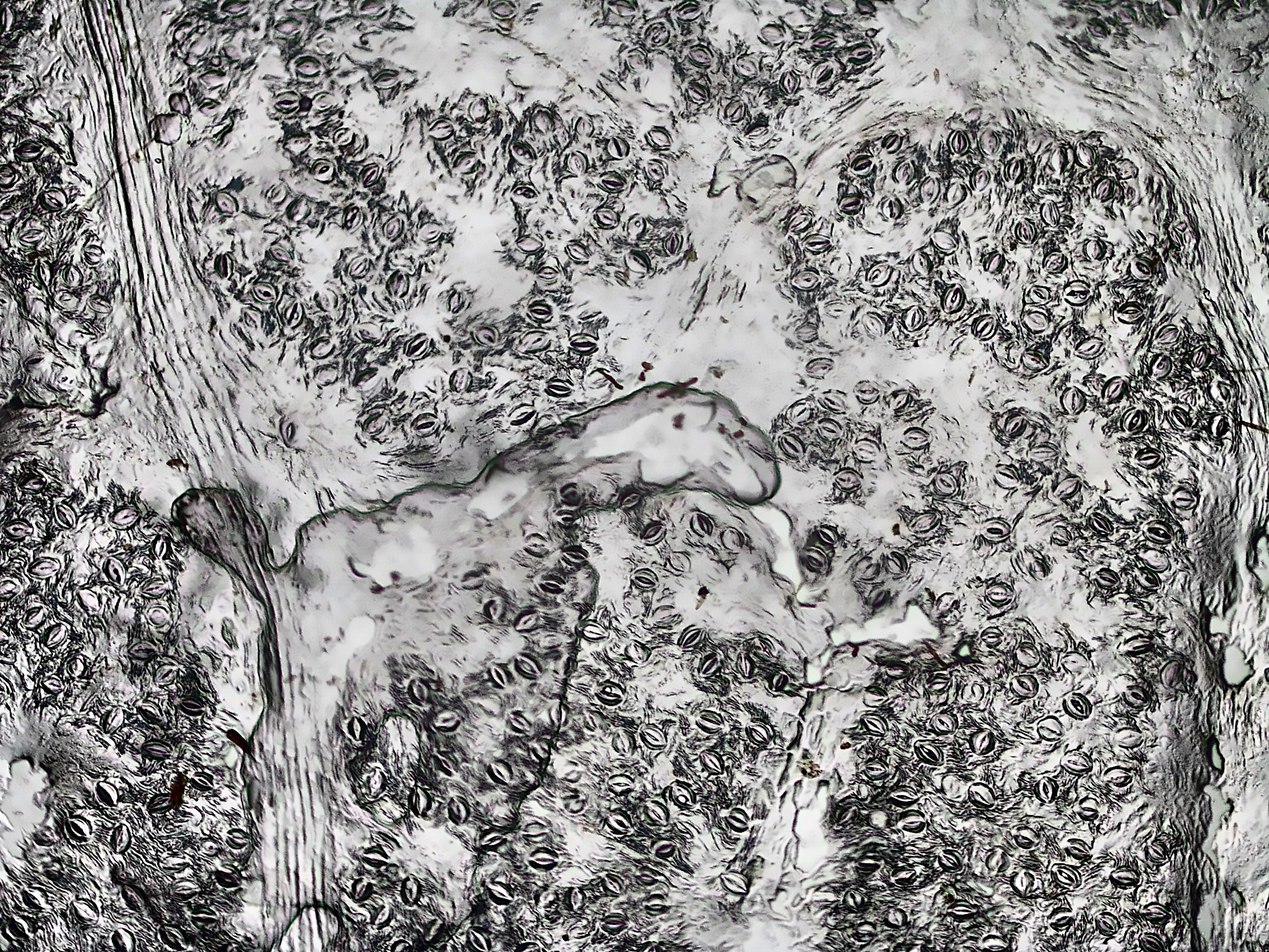stomata: (62, 812, 90, 842), (1101, 767, 1131, 795), (279, 414, 302, 450), (1061, 691, 1090, 719), (517, 331, 552, 354), (71, 897, 100, 924), (159, 922, 189, 948), (647, 124, 673, 153), (967, 782, 994, 809), (1052, 862, 1080, 888), (1135, 563, 1160, 592), (1062, 280, 1092, 304), (409, 785, 432, 816), (980, 519, 1011, 542), (834, 469, 865, 492), (1074, 334, 1106, 356), (1001, 408, 1027, 435), (109, 506, 144, 526), (1101, 375, 1126, 403), (1142, 521, 1175, 542), (525, 301, 555, 324), (1019, 308, 1049, 331), (26, 556, 57, 578), (915, 738, 941, 764), (42, 187, 67, 214), (75, 588, 102, 613), (670, 781, 695, 808), (136, 700, 164, 724), (811, 61, 835, 89), (940, 285, 964, 313), (1135, 446, 1164, 469), (1012, 867, 1035, 896), (758, 23, 788, 45), (1211, 377, 1233, 407), (564, 239, 590, 264), (510, 407, 536, 432), (605, 134, 630, 160), (1090, 176, 1115, 202), (853, 555, 879, 580), (678, 625, 705, 649), (862, 310, 886, 337), (595, 681, 622, 705), (532, 106, 555, 134), (1072, 143, 1100, 166), (363, 769, 386, 797), (1010, 674, 1038, 697), (1114, 727, 1142, 750), (946, 179, 968, 208), (1014, 642, 1039, 667), (453, 150, 479, 174), (780, 432, 804, 458), (1003, 156, 1027, 182), (1167, 407, 1191, 433), (405, 333, 432, 356), (929, 229, 956, 252), (94, 781, 117, 808), (410, 412, 441, 432), (140, 739, 171, 759), (388, 270, 410, 298), (792, 269, 820, 291), (719, 870, 747, 892), (972, 726, 994, 754), (13, 135, 42, 156), (150, 531, 171, 560), (158, 851, 188, 871), (606, 810, 631, 834), (804, 549, 829, 573), (910, 512, 940, 532), (1037, 716, 1062, 740), (898, 426, 928, 446), (994, 463, 1019, 487), (273, 90, 299, 113), (215, 192, 241, 215), (973, 313, 996, 339), (696, 709, 722, 732), (644, 800, 670, 823), (787, 402, 814, 424), (978, 127, 1000, 154), (448, 797, 470, 824), (486, 880, 513, 902), (370, 71, 401, 90), (1109, 867, 1140, 886), (293, 56, 321, 77), (651, 605, 679, 626), (1012, 826, 1040, 847), (806, 357, 835, 377), (1141, 903, 1170, 923), (105, 560, 129, 584), (626, 249, 650, 273), (645, 23, 669, 47), (642, 725, 666, 749), (700, 749, 724, 773), (1143, 839, 1167, 863), (818, 418, 841, 443), (867, 260, 892, 283), (515, 656, 540, 679), (746, 721, 771, 744), (883, 550, 906, 575), (1061, 387, 1086, 410), (1121, 410, 1146, 433), (1053, 474, 1076, 499), (241, 305, 263, 331), (473, 326, 499, 348), (720, 528, 746, 550), (734, 57, 760, 79), (855, 381, 881, 403), (1060, 750, 1090, 769), (514, 234, 541, 255), (639, 523, 666, 544), (624, 640, 651, 661), (1162, 661, 1183, 688), (509, 183, 537, 203), (1028, 442, 1056, 462), (1043, 249, 1067, 272), (912, 248, 931, 277), (1123, 636, 1152, 655), (565, 150, 587, 175), (595, 206, 620, 228), (632, 568, 657, 590), (489, 758, 511, 783), (862, 713, 887, 735), (1035, 779, 1057, 804), (144, 605, 170, 626), (687, 44, 713, 65), (1047, 148, 1068, 174), (926, 672, 952, 693), (1063, 837, 1095, 854), (409, 677, 429, 704), (929, 714, 956, 734), (673, 0, 701, 19), (432, 711, 460, 730), (918, 176, 941, 199), (1131, 258, 1154, 281), (225, 827, 248, 850), (216, 864, 239, 887), (83, 238, 105, 262), (362, 414, 386, 436), (624, 49, 648, 71), (1090, 512, 1112, 536), (1126, 685, 1148, 709), (309, 339, 334, 360), (602, 911, 627, 932), (900, 810, 925, 831), (568, 334, 597, 352), (104, 707, 124, 733), (310, 91, 336, 111), (550, 702, 570, 728), (1168, 487, 1194, 507), (140, 579, 167, 598), (803, 235, 830, 254), (736, 653, 755, 680), (253, 280, 276, 302), (690, 513, 712, 536), (686, 82, 709, 104), (889, 390, 912, 412), (1084, 238, 1106, 261), (727, 809, 749, 832), (986, 849, 1008, 872), (934, 471, 957, 493), (1075, 798, 1097, 821), (308, 160, 336, 178), (52, 502, 73, 526), (64, 656, 88, 677), (289, 194, 307, 222), (510, 141, 534, 162), (539, 574, 567, 592), (1014, 219, 1038, 240), (1116, 302, 1144, 320), (936, 850, 960, 871), (153, 664, 178, 684), (273, 17, 298, 37), (627, 217, 647, 242), (836, 192, 861, 212), (986, 582, 1011, 602), (599, 172, 625, 191), (1062, 651, 1088, 670), (191, 772, 218, 790), (361, 847, 388, 865), (607, 775, 634, 793), (379, 215, 401, 237), (359, 163, 381, 185), (466, 99, 488, 121), (722, 98, 744, 120), (146, 790, 168, 812), (612, 732, 634, 754), (645, 892, 667, 914), (1187, 345, 1209, 367), (314, 288, 337, 309), (430, 117, 453, 138), (485, 597, 506, 620), (788, 210, 811, 231), (880, 196, 901, 219), (856, 438, 879, 459), (1048, 907, 1071, 928), (284, 302, 304, 326), (780, 71, 800, 95), (1149, 356, 1169, 380), (1095, 913, 1119, 933), (1211, 413, 1231, 437), (532, 265, 560, 282), (970, 167, 989, 192), (488, 659, 507, 684), (523, 821, 548, 840), (1020, 348, 1045, 367), (579, 622, 605, 640), (1042, 200, 1060, 226), (404, 873, 420, 902), (89, 293, 111, 314), (525, 534, 547, 555), (819, 390, 841, 411), (982, 252, 1003, 274), (267, 243, 290, 263), (451, 367, 471, 390), (949, 131, 969, 154), (700, 653, 720, 676), (173, 880, 197, 899), (892, 865, 916, 884), (864, 759, 888, 778), (863, 686, 887, 705), (530, 850, 555, 868), (891, 786, 916, 804), (885, 661, 911, 678), (1096, 567, 1117, 588), (43, 622, 63, 644), (564, 545, 586, 565), (23, 885, 45, 905), (350, 877, 372, 897), (509, 709, 529, 731), (844, 889, 864, 911), (63, 265, 82, 288), (332, 126, 355, 145), (351, 368, 374, 387), (848, 43, 871, 62), (21, 472, 45, 490), (38, 675, 62, 693), (665, 232, 683, 256), (111, 825, 129, 849), (947, 902, 974, 918), (215, 254, 232, 279), (418, 223, 438, 244), (895, 160, 915, 181), (21, 607, 43, 626), (836, 805, 858, 824), (981, 626, 1003, 645), (343, 204, 361, 227), (905, 305, 923, 328), (348, 715, 366, 738), (483, 830, 506, 848), (563, 482, 580, 506), (851, 156, 875, 173), (4, 522, 29, 538), (620, 490, 640, 510), (374, 907, 394, 927), (267, 181, 288, 200), (1158, 325, 1180, 343), (181, 696, 204, 713), (798, 322, 822, 338), (602, 873, 622, 892), (647, 160, 665, 181), (854, 922, 875, 940), (810, 33, 835, 48), (517, 611, 539, 628), (566, 886, 583, 908), (824, 302, 848, 317), (885, 908, 906, 925), (548, 380, 571, 395), (348, 256, 367, 274), (768, 670, 786, 689), (447, 291, 464, 311), (19, 231, 45, 244), (555, 511, 574, 528), (574, 118, 593, 135), (24, 354, 44, 370), (881, 134, 901, 150), (654, 840, 674, 856), (816, 526, 836, 542), (746, 123, 768, 137), (1031, 287, 1049, 303), (129, 643, 150, 656), (859, 858, 880, 870)
